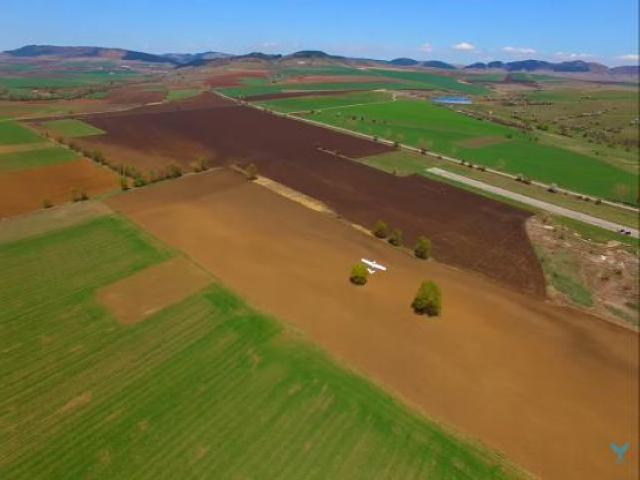uav: (357, 251, 388, 280)
